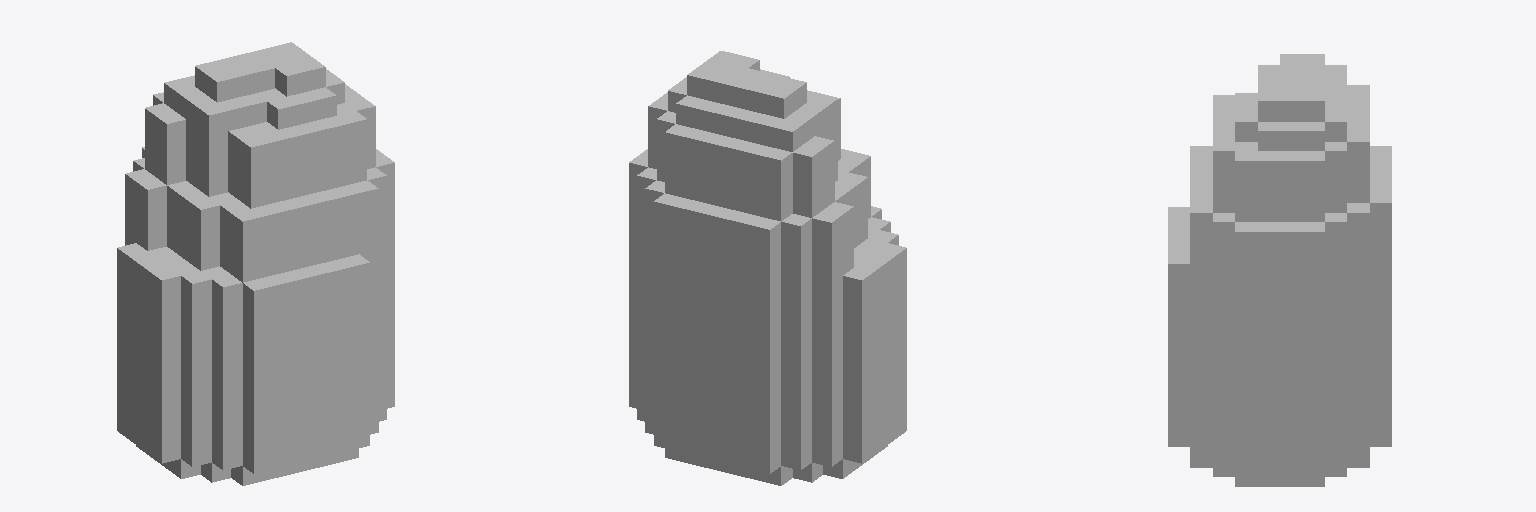
File: stone2.obj
3 renders of one model, left to right at view 1: azimuth 30°, elevation 25°; view 2: azimuth 150°, elevation 25°; view 3: azimuth 270°, elevation 25°, orthographic.
Visible parts, largest first — view 1: object 1; view 2: object 1; view 3: object 1.
Part boxes in pixels (bbox=[...]): object 1: bbox=[117, 42, 394, 485]; object 1: bbox=[629, 51, 906, 485]; object 1: bbox=[1168, 54, 1391, 486].
Bounding box in the file's own units: 1.2 × 1.8 × 1.